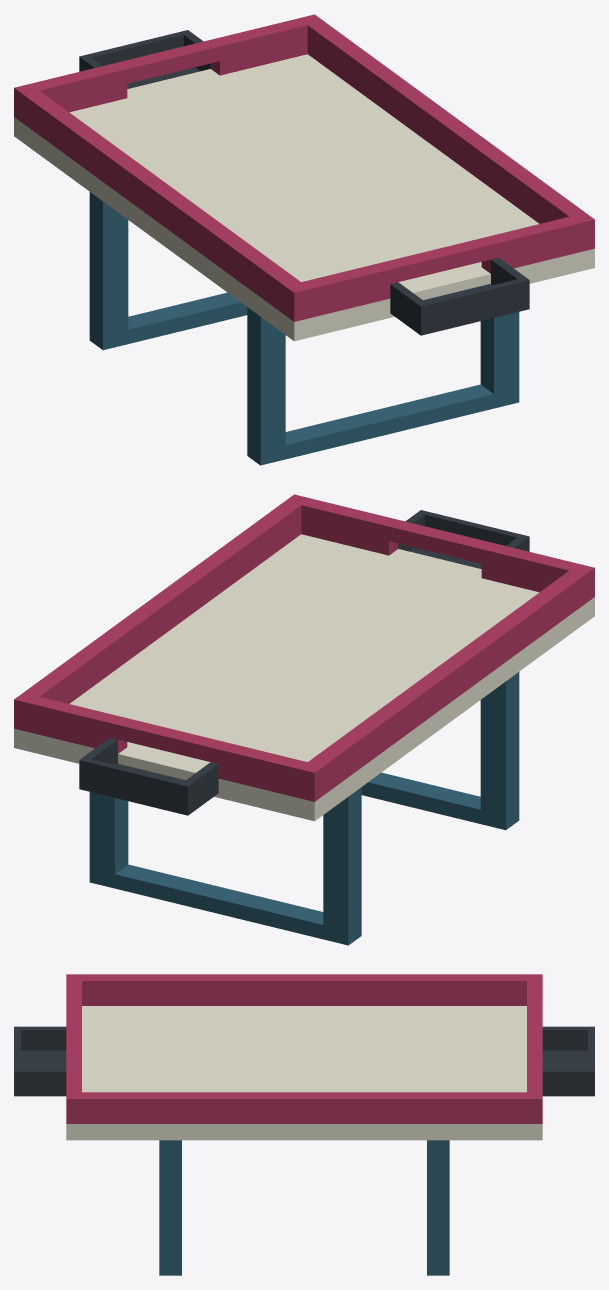
3 views of the same model, one above another, from view 1: azimuth 30°, elevation 25°; view 2: azimuth 150°, elevation 25°; view 3: azimuth 270°, elevation 25° (orthographic). The views are drawn at different scales.
Parts seen in each view (by area): view 1: ThickContinuousPlayingBed, Front_PortalTrestle, Left_LongSideRail, Right_LongSideRail, Front_ContinuousOpenGoalFrame, Back_PortalTrestle, Back_ContinuousOpenGoalFrame, Front_OpenReturnTrough, Back_OpenReturnTrough; view 2: ThickContinuousPlayingBed, Back_PortalTrestle, Left_LongSideRail, Right_LongSideRail, Back_ContinuousOpenGoalFrame, Front_PortalTrestle, Front_ContinuousOpenGoalFrame, Back_OpenReturnTrough, Front_OpenReturnTrough; view 3: ThickContinuousPlayingBed, Right_LongSideRail, Left_LongSideRail, Back_OpenReturnTrough, Front_OpenReturnTrough, Back_PortalTrestle, Front_PortalTrestle, Back_ContinuousOpenGoalFrame, Front_ContinuousOpenGoalFrame.
Part boxes in pixels (left/top/right/bottom): ThickContinuousPlayingBed: left=14, top=54, right=594, bottom=341; Front_PortalTrestle: left=247, top=307, right=519, bottom=465; Left_LongSideRail: left=14, top=84, right=310, bottom=321; Right_LongSideRail: left=299, top=14, right=594, bottom=252; Front_ContinuousOpenGoalFrame: left=301, top=216, right=578, bottom=317; Back_PortalTrestle: left=89, top=192, right=247, bottom=350; Back_ContinuousOpenGoalFrame: left=30, top=18, right=307, bottom=112; Front_OpenReturnTrough: left=390, top=257, right=529, bottom=335; Back_OpenReturnTrough: left=79, top=30, right=210, bottom=88; ThickContinuousPlayingBed: left=14, top=534, right=594, bottom=821; Back_PortalTrestle: left=89, top=787, right=361, bottom=945; Left_LongSideRail: left=298, top=564, right=594, bottom=801; Right_LongSideRail: left=14, top=494, right=309, bottom=732; Back_ContinuousOpenGoalFrame: left=30, top=696, right=307, bottom=797; Front_PortalTrestle: left=361, top=672, right=519, bottom=830; Front_ContinuousOpenGoalFrame: left=301, top=498, right=578, bottom=592; Back_OpenReturnTrough: left=79, top=737, right=218, bottom=815; Front_OpenReturnTrough: left=398, top=510, right=529, bottom=568; ThickContinuousPlayingBed: left=66, top=1006, right=542, bottom=1140; Right_LongSideRail: left=66, top=1092, right=542, bottom=1123; Left_LongSideRail: left=66, top=974, right=542, bottom=1005; Back_OpenReturnTrough: left=542, top=1026, right=594, bottom=1096; Front_OpenReturnTrough: left=14, top=1026, right=66, bottom=1096; Back_PortalTrestle: left=427, top=1140, right=449, bottom=1275; Front_PortalTrestle: left=159, top=1140, right=181, bottom=1275; Back_ContinuousOpenGoalFrame: left=527, top=981, right=542, bottom=1092; Front_ContinuousOpenGoalFrame: left=66, top=981, right=81, bottom=1092.
Bounding box in the file's own units: 1.3 × 0.9004 × 2.56.
